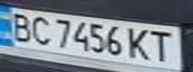4: (69, 19, 90, 52)
5: (87, 20, 106, 55)
6: (103, 24, 127, 57)
7: (51, 16, 72, 50)
B: (3, 9, 36, 43)
C: (27, 13, 54, 46)
K: (124, 25, 154, 61)
T: (145, 28, 178, 63)
